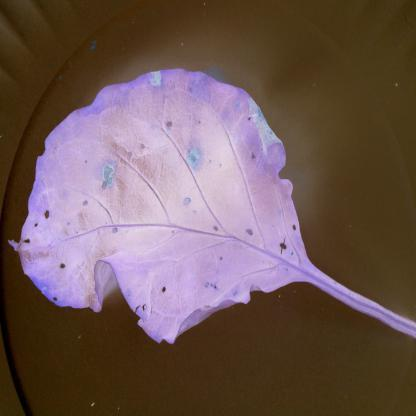Bell_pepper leaf: (1, 62, 310, 350)
